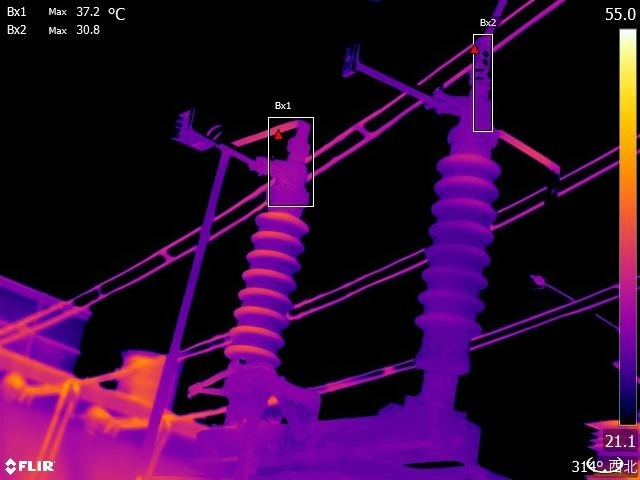post insulator: (419, 143, 497, 347), (222, 201, 319, 364)
switch: (335, 34, 496, 128), (166, 96, 313, 191)
